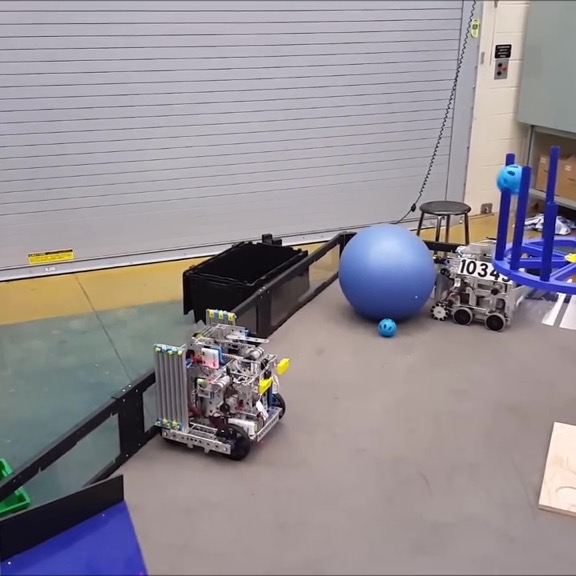ball: (491, 156, 522, 193), (373, 315, 400, 335)
robot: (160, 320, 275, 461), (440, 231, 537, 331)
yogaball: (326, 212, 440, 315)
